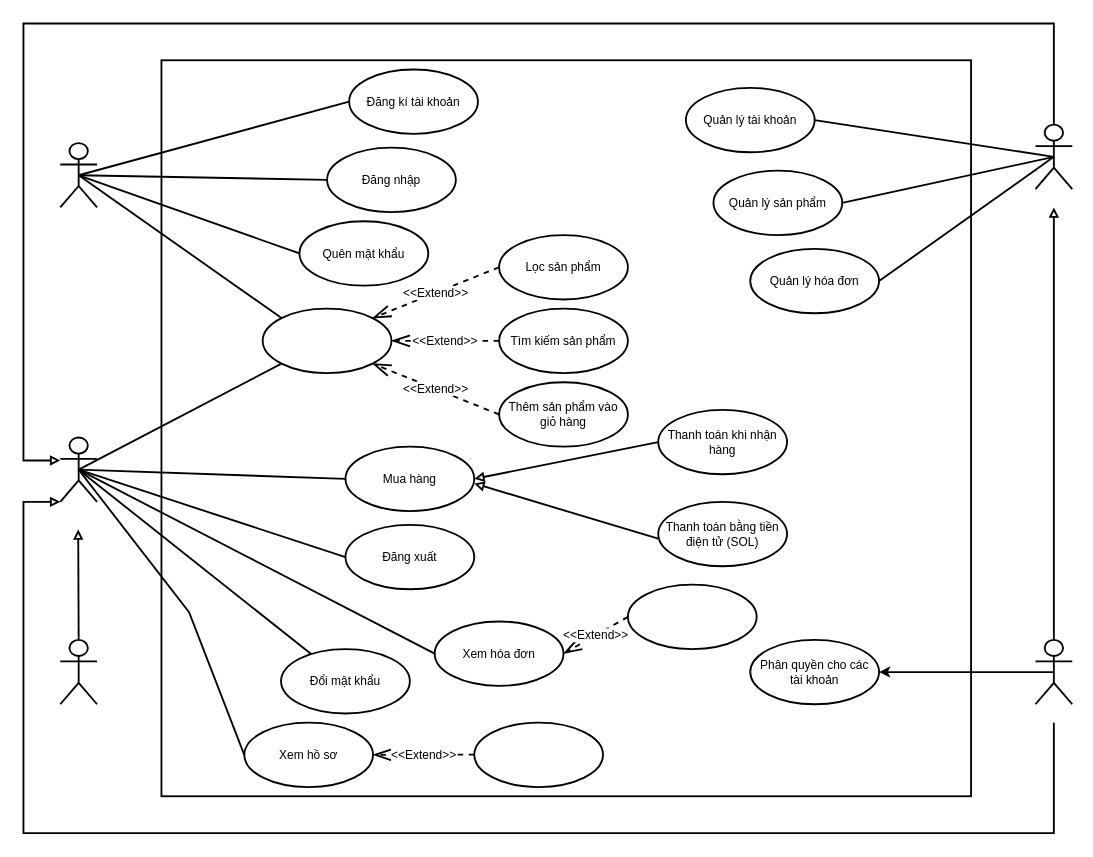
Image size: 1093x857. Some labels were removed from this diagram. Here are the shapes that lost their labels. From the top down, the centre of each, then its label:
point 78,175: Guest
point 1053,156: Staffs
point 326,340: Xem sản phẩm
point 78,469: Authenticated user
point 692,616: Xem chi tiết hóa đơn
point 78,671: Customers
point 1053,671: Directors
point 538,754: Chỉnh sửa hồ sơ
